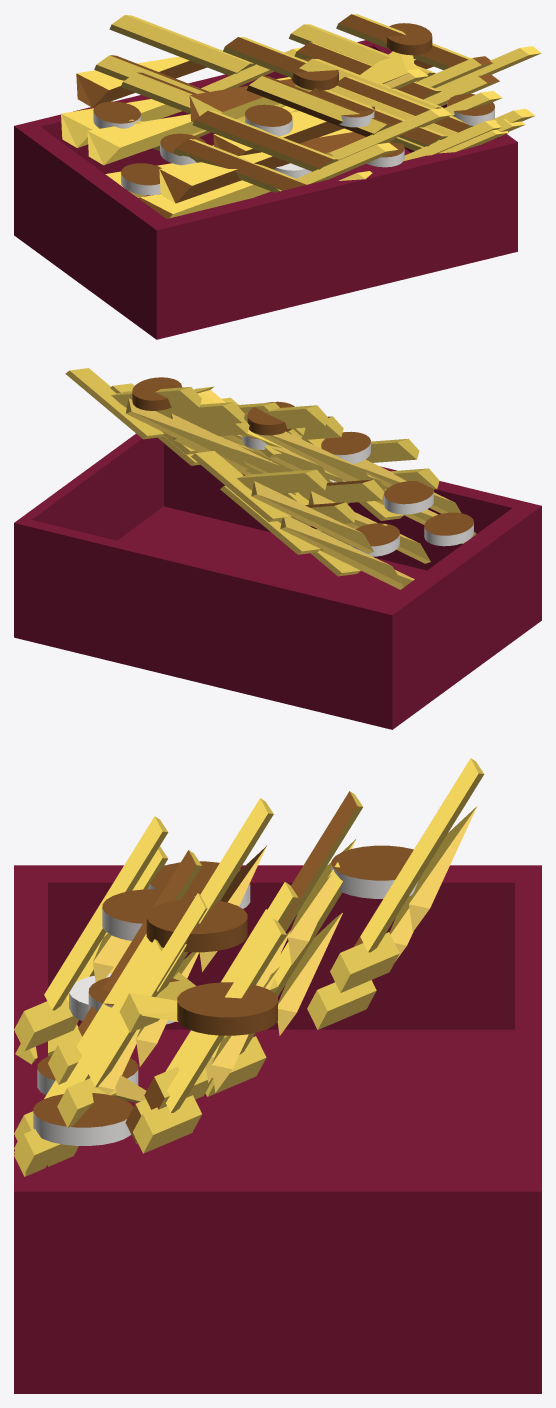
Rendered from poutine.fbx.
3 views of the same model, one above another, from view 1: azimuth 30°, elevation 25°; view 2: azimuth 150°, elevation 25°; view 3: azimuth 270°, elevation 25° (orthographic). The views are drawn at different scales.
Parts seen in each view (by area): view 1: Model; view 2: Model; view 3: Model.
Part boxes in pixels (left/top/right/bottom): Model: left=14, top=14, right=541, bottom=339; Model: left=14, top=368, right=541, bottom=729; Model: left=14, top=758, right=541, bottom=1393.
Bounding box in the file's own units: 0.4419 × 0.2192 × 0.26.
